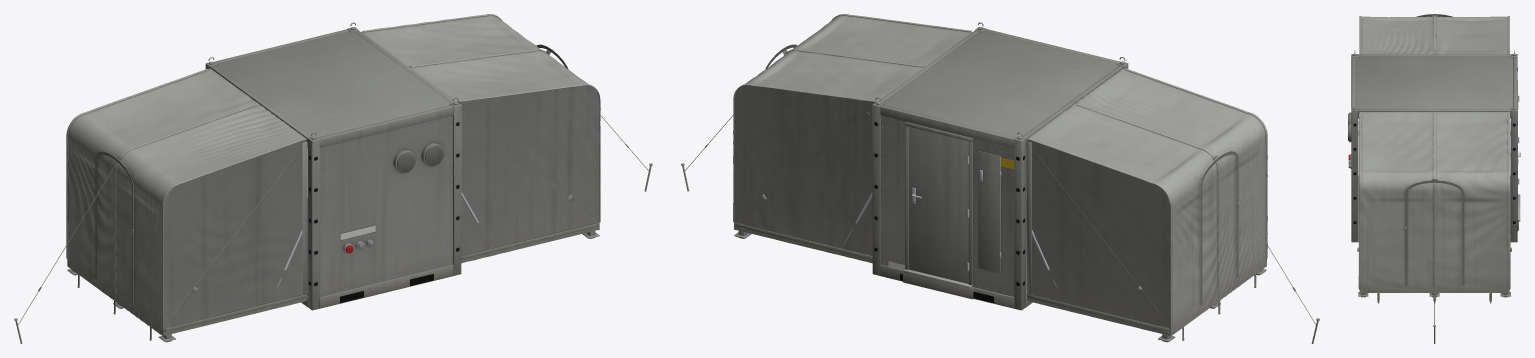
The model's file is ateps-ar.glb.
3 renders of one model, left to right at view 1: azimuth 30°, elevation 25°; view 2: azimuth 150°, elevation 25°; view 3: azimuth 270°, elevation 25°, orthographic. The views are drawn at different scales.
Parts seen in each view (by area): view 1: ATEPS_expansion_L, ATEPS_core, ATEPS_expansion_R, ATEPS_side_wall_L, ATEPS_side_wall_R; view 2: ATEPS_expansion_L, ATEPS_core, ATEPS_expansion_R, ATEPS_side_wall_L, ATEPS_side_wall_R; view 3: ATEPS_expansion_R, ATEPS_core, ATEPS_expansion_L.
Boxes of the visible parts, left/top/right/bottom form: ATEPS_expansion_L: left=14, top=68, right=307, bottom=343; ATEPS_core: left=205, top=22, right=478, bottom=310; ATEPS_expansion_R: left=361, top=14, right=652, bottom=263; ATEPS_side_wall_L: left=165, top=294, right=306, bottom=331; ATEPS_side_wall_R: left=461, top=222, right=598, bottom=259; ATEPS_expansion_L: left=1026, top=68, right=1319, bottom=343; ATEPS_core: left=843, top=22, right=1128, bottom=310; ATEPS_expansion_R: left=681, top=14, right=972, bottom=263; ATEPS_side_wall_L: left=1027, top=294, right=1169, bottom=331; ATEPS_side_wall_R: left=735, top=222, right=872, bottom=259; ATEPS_expansion_R: left=1357, top=112, right=1511, bottom=343; ATEPS_core: left=1348, top=50, right=1520, bottom=242; ATEPS_expansion_L: left=1358, top=14, right=1510, bottom=135.
Size of the model in its own units: 9.11 by 2.6 by 2.75.
Materials: 18 (7 with a texture image).
